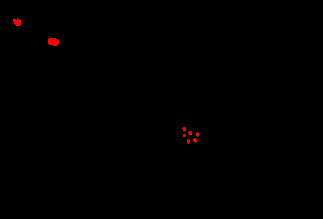Target: (48, 38, 59, 46), (13, 18, 21, 26), (193, 138, 197, 143), (182, 127, 186, 131), (188, 131, 192, 135), (196, 132, 199, 137), (187, 139, 190, 144), (183, 134, 186, 137)
